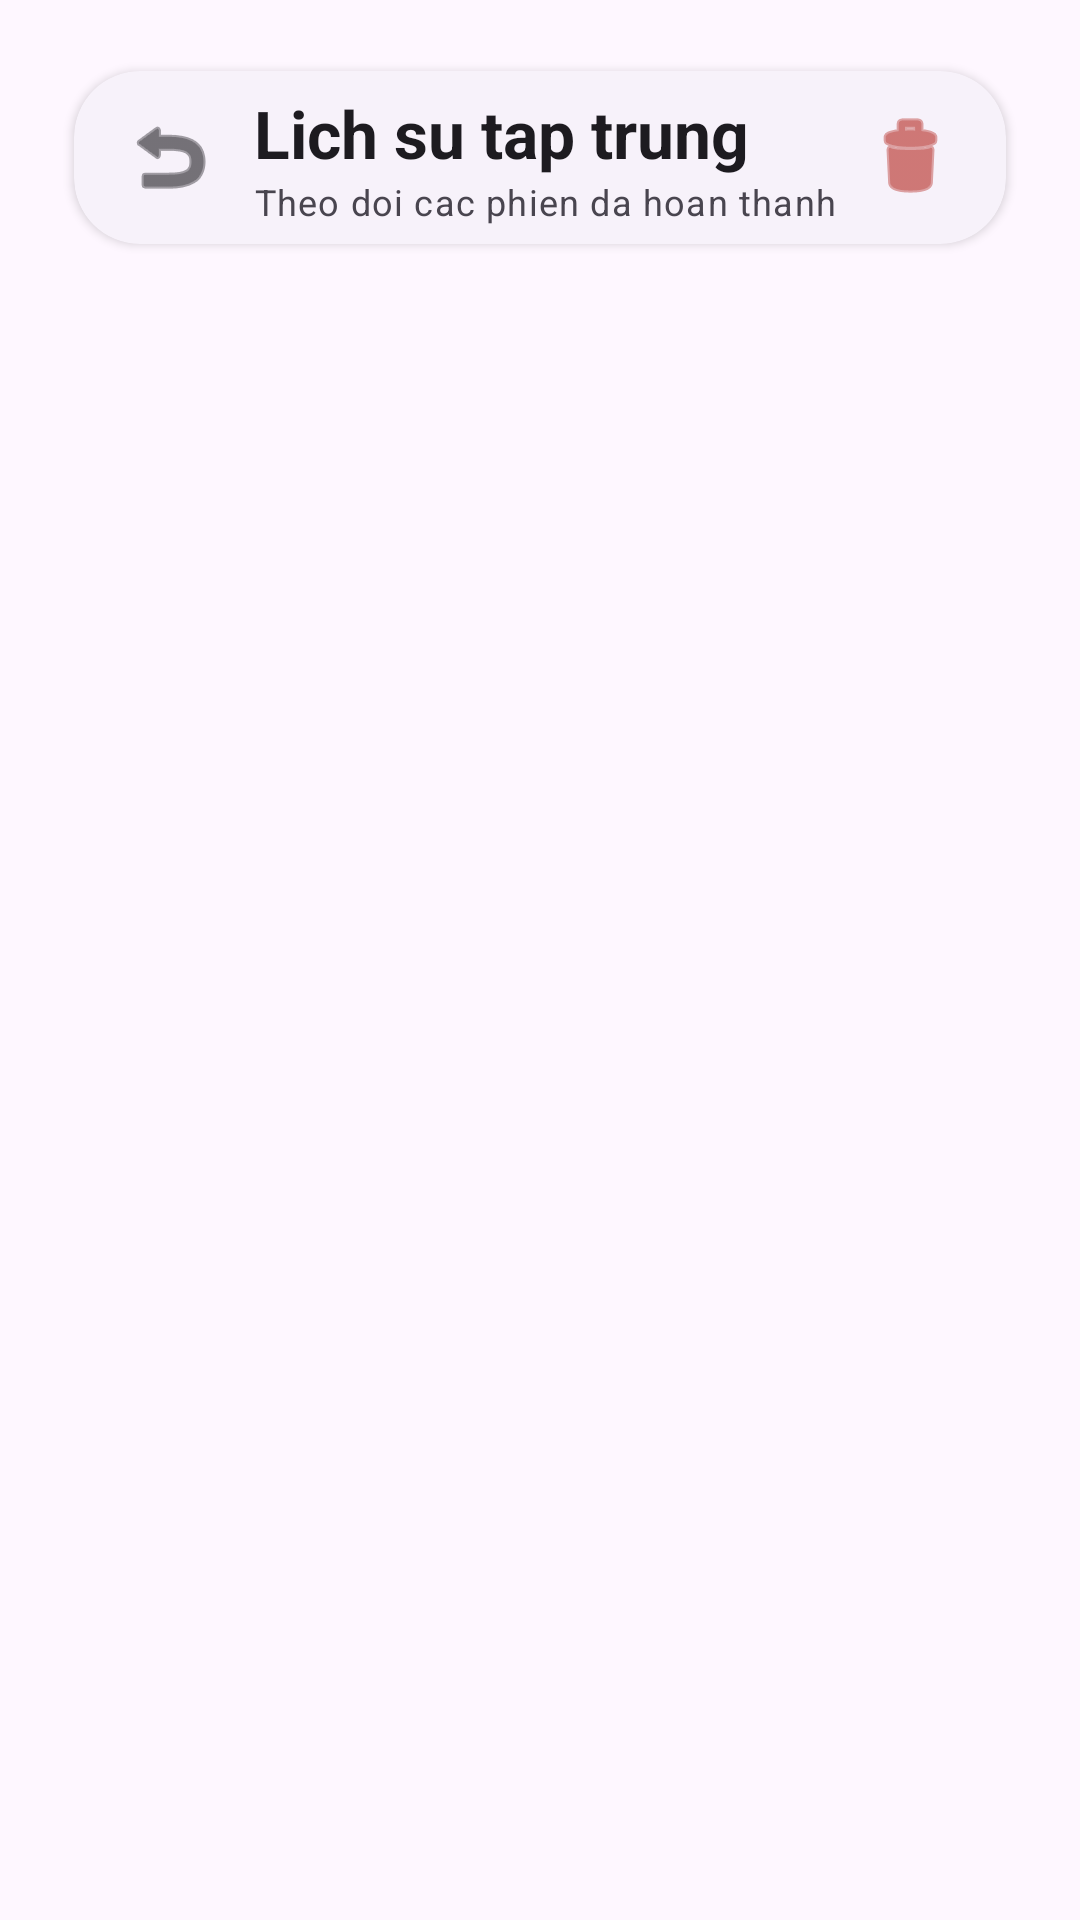

Icons on this 1080 × 1920 Android screen, each with the point to tap as point (x, y):
Quay lai: point (171, 157)
Xoa toan bo lich su: point (910, 155)
